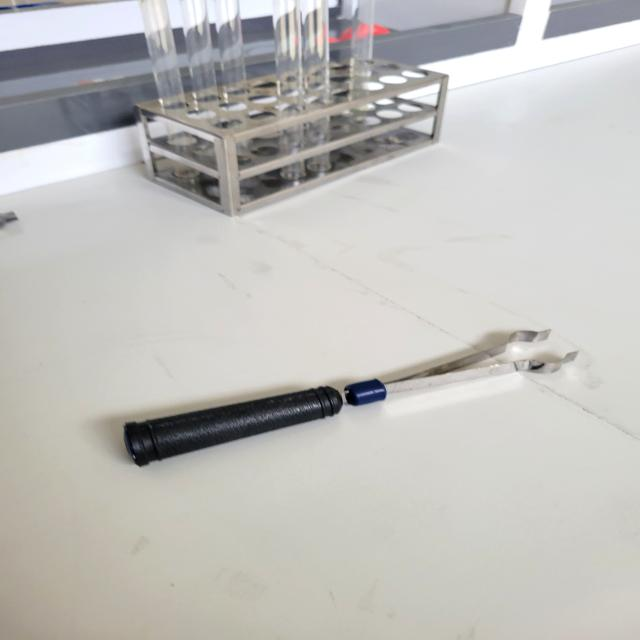TestTube_Holder: (96, 315, 588, 491)
